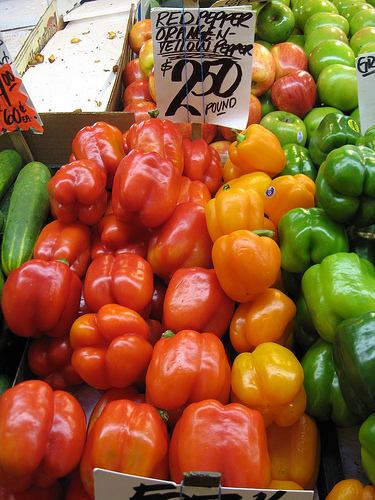capsicum: (0, 380, 86, 496)
